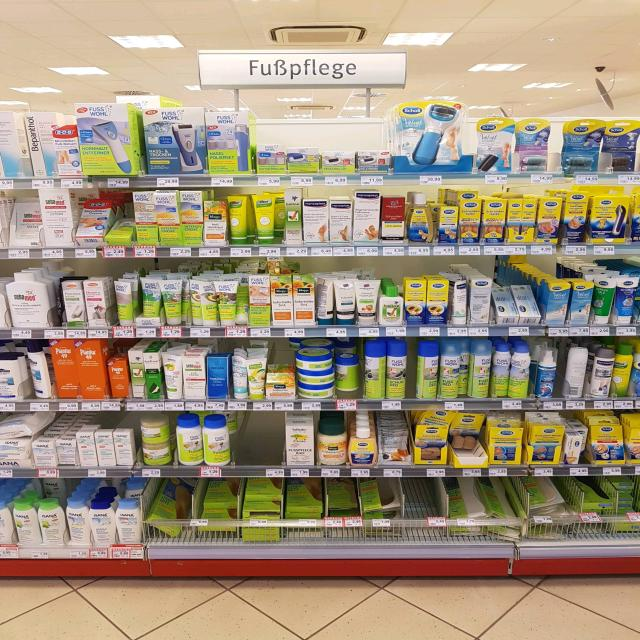void: (238, 417, 279, 481), (404, 484, 436, 560)
